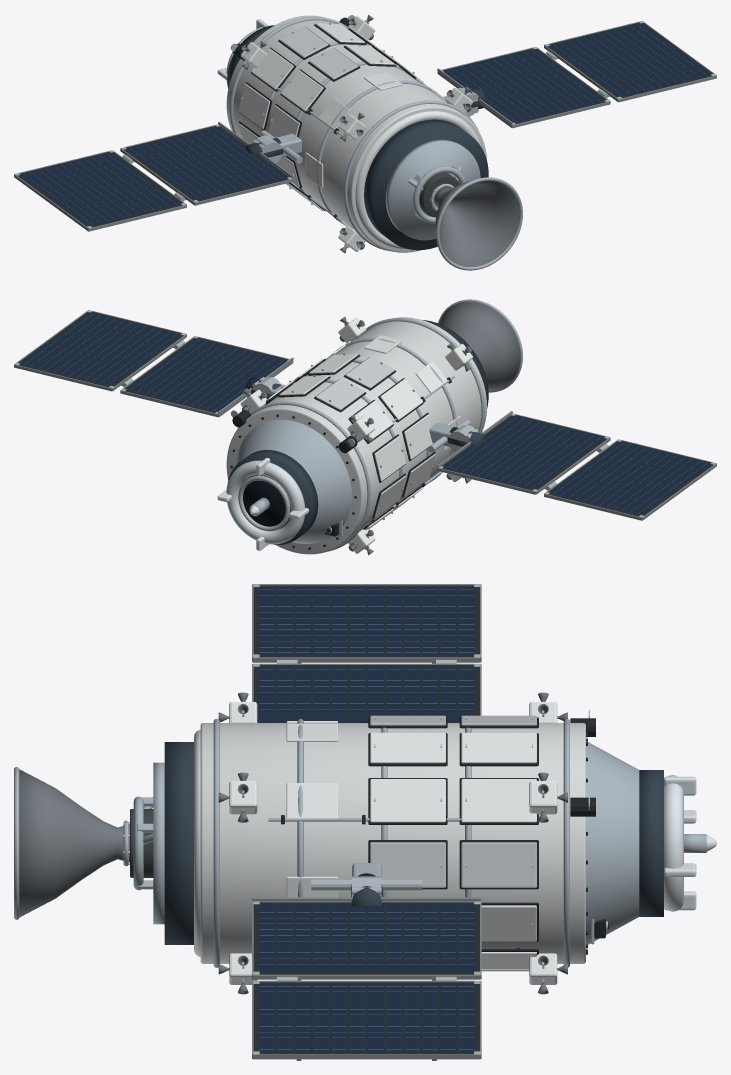
The model's file is preview_chaser.glb.
The picture shows the model from 3 angles, top to bottom: view 1: azimuth 30°, elevation 25°; view 2: azimuth 150°, elevation 25°; view 3: azimuth 270°, elevation 25°; orthographic projection. The views are drawn at different scales.
Visible parts, largest first — view 1: Photovoltaic coverglass, service_module_pressure_shell, aft_bulkhead, Solar sandwich substrate, Four-way RCS pod, RCS expansion nozzle, aft_equipment_module, array_edge_rail.002, RCS mounting collar, Removable thermal blanket, aft_radiator_band, RCS recessed throat (+2 smaller); view 2: Photovoltaic coverglass, service_module_pressure_shell, aft_bulkhead, Solar sandwich substrate, Four-way RCS pod, RCS expansion nozzle, array_edge_rail.002, capture_guide_petal, Removable thermal blanket, aft_equipment_module, RCS recessed throat, RCS mounting collar (+3 smaller); view 3: Photovoltaic coverglass, service_module_pressure_shell, Four-way RCS pod, aft_bulkhead, Solar sandwich substrate, RCS expansion nozzle, aft_equipment_module, Removable thermal blanket, array_edge_rail.002, Cell collection strip, RCS recessed throat, RCS mounting collar (+3 smaller).
Part boxes in pixels (<box>): Photovoltaic coverglass: <box>20,23,710,226</box>; service_module_pressure_shell: <box>226,15,486,252</box>; aft_bulkhead: <box>229,17,522,270</box>; Solar sandwich substrate: <box>17,22,712,227</box>; Four-way RCS pod: <box>238,16,472,251</box>; RCS expansion nozzle: <box>242,14,519,267</box>; aft_equipment_module: <box>227,25,488,250</box>; array_edge_rail.002: <box>14,21,716,231</box>; RCS mounting collar: <box>15,15,715,270</box>; Removable thermal blanket: <box>238,26,358,187</box>; aft_radiator_band: <box>355,111,481,249</box>; RCS recessed throat: <box>232,17,472,219</box>; Photovoltaic coverglass: <box>20,312,710,515</box>; service_module_pressure_shell: <box>226,317,486,554</box>; aft_bulkhead: <box>236,300,522,551</box>; Solar sandwich substrate: <box>18,312,713,516</box>; Four-way RCS pod: <box>240,318,472,553</box>; RCS expansion nozzle: <box>242,301,520,555</box>; array_edge_rail.002: <box>14,310,716,520</box>; capture_guide_petal: <box>217,457,308,550</box>; Removable thermal blanket: <box>316,357,435,517</box>; aft_equipment_module: <box>228,320,488,544</box>; RCS recessed throat: <box>230,354,472,549</box>; RCS mounting collar: <box>14,299,715,549</box>; Photovoltaic coverglass: <box>258,587,474,1052</box>; service_module_pressure_shell: <box>200,723,585,963</box>; Four-way RCS pod: <box>229,702,557,984</box>; aft_bulkhead: <box>14,718,706,967</box>; Solar sandwich substrate: <box>253,585,479,1054</box>; RCS expansion nozzle: <box>19,692,567,994</box>; aft_equipment_module: <box>164,721,663,944</box>; Removable thermal blanket: <box>370,715,536,971</box>; array_edge_rail.002: <box>252,584,481,1060</box>; Cell collection strip: <box>259,589,473,1049</box>; RCS recessed throat: <box>281,717,605,954</box>; RCS mounting collar: <box>15,584,607,1054</box>.
Bounding box in the file's own units: 7.57 × 1.73 × 4.78.
